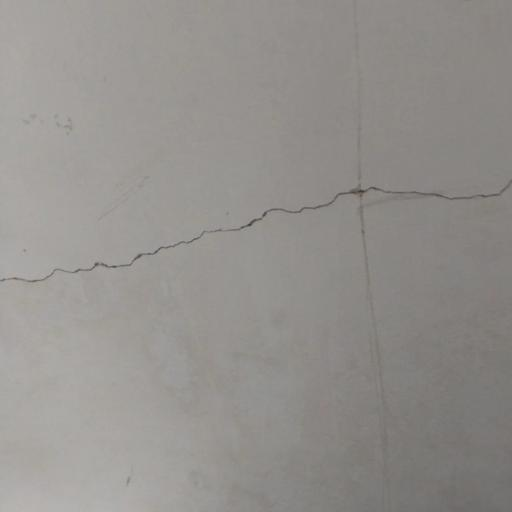minor_crack: (0, 178, 512, 295)
